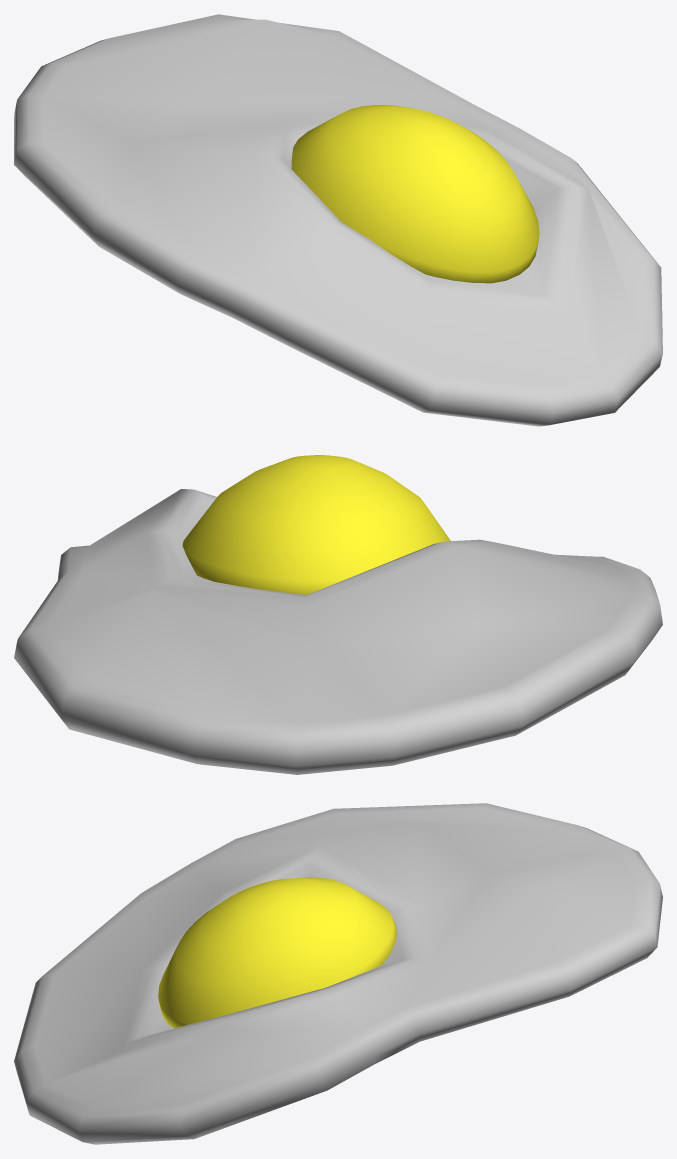
3 renders of one model, top to bottom at view 1: azimuth 30°, elevation 25°; view 2: azimuth 150°, elevation 25°; view 3: azimuth 270°, elevation 25°, orthographic. The views are drawn at different scales.
Visible parts, largest first — view 1: Egg_white_2, Yolk_2; view 2: Egg_white_2, Yolk_2; view 3: Egg_white_2, Yolk_2.
Boxes of the visible parts, box(x1,y1,x2,y2) form: Egg_white_2: box(14, 14, 662, 426); Yolk_2: box(291, 105, 539, 283); Egg_white_2: box(14, 489, 662, 774); Yolk_2: box(182, 455, 450, 594); Egg_white_2: box(14, 803, 662, 1144); Yolk_2: box(158, 877, 396, 1028).
Size of the model in its own units: 26.01 by 32.56 by 11.08.
